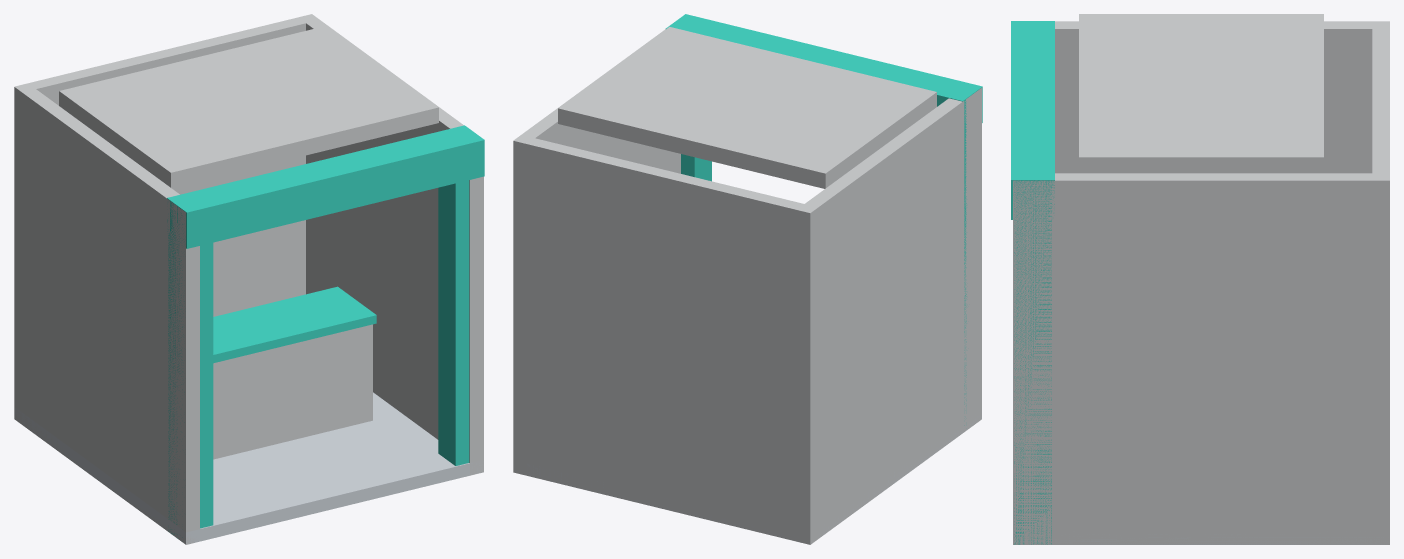
3 renders of one model, left to right at view 1: azimuth 30°, elevation 25°; view 2: azimuth 150°, elevation 25°; view 3: azimuth 270°, elevation 25°, orthographic. The views are drawn at different scales.
Parts seen in each view (by area): view 1: Exhibition Booth Concept; view 2: Exhibition Booth Concept; view 3: Exhibition Booth Concept.
Boxes of the visible parts, left/top/right/bottom form: Exhibition Booth Concept: left=14, top=14, right=484, bottom=544; Exhibition Booth Concept: left=513, top=14, right=982, bottom=544; Exhibition Booth Concept: left=1011, top=14, right=1389, bottom=544.
Bounding box in the file's own units: 3 × 3.34 × 3.01.
